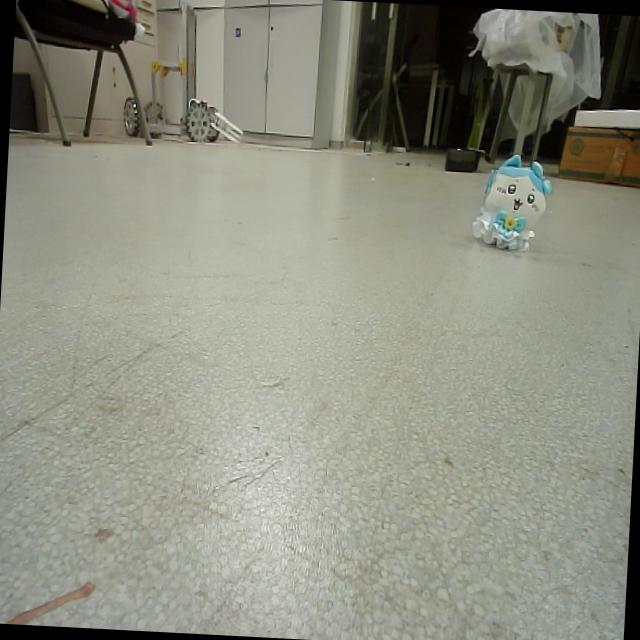xiaoba: (472, 150, 554, 254)
